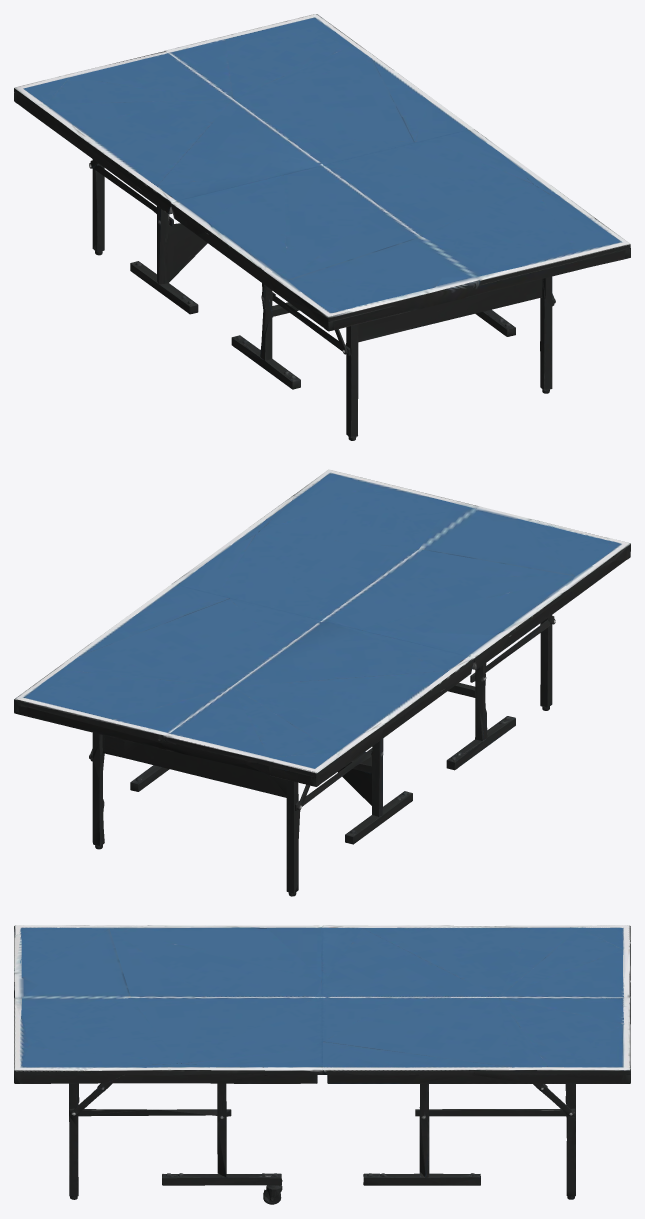
Rendered from pingpong_table.glb.
3 renders of one model, top to bottom at view 1: azimuth 30°, elevation 25°; view 2: azimuth 150°, elevation 25°; view 3: azimuth 270°, elevation 25°, orthographic. The views are drawn at different scales.
Visible parts, largest first — view 1: Mesh_0; view 2: Mesh_0; view 3: Mesh_0.
Part boxes in pixels (left/top/right/bottom): Mesh_0: left=14, top=14, right=630, bottom=440; Mesh_0: left=14, top=469, right=630, bottom=896; Mesh_0: left=14, top=925, right=630, bottom=1204.
Size of the model in its own units: 1.53 by 0.76 by 2.74.
1 material, 1 textured.
